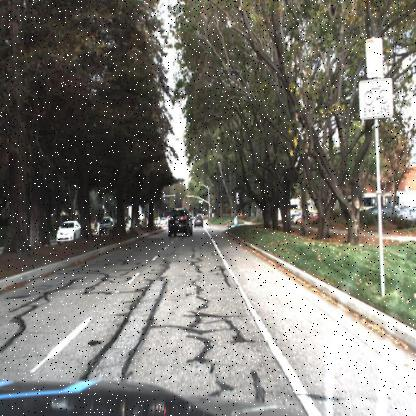car: (364, 199, 402, 228), (168, 204, 194, 240), (54, 217, 83, 244), (96, 216, 114, 242), (193, 214, 205, 230)
